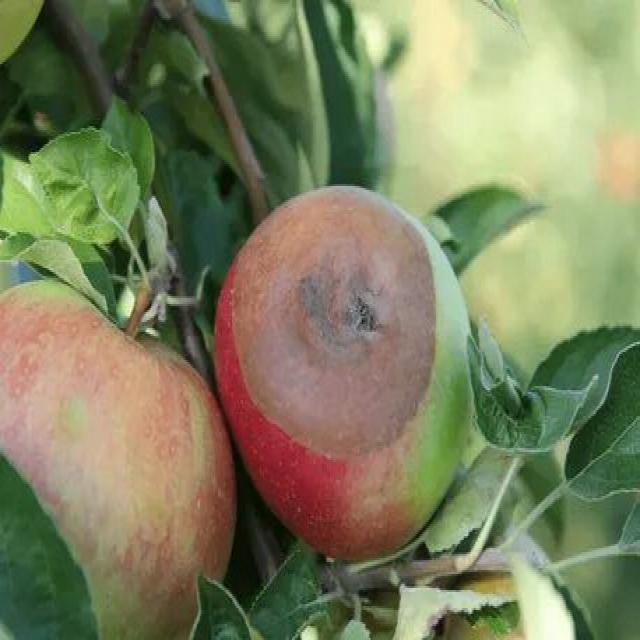Rotten: (218, 185, 487, 557)
